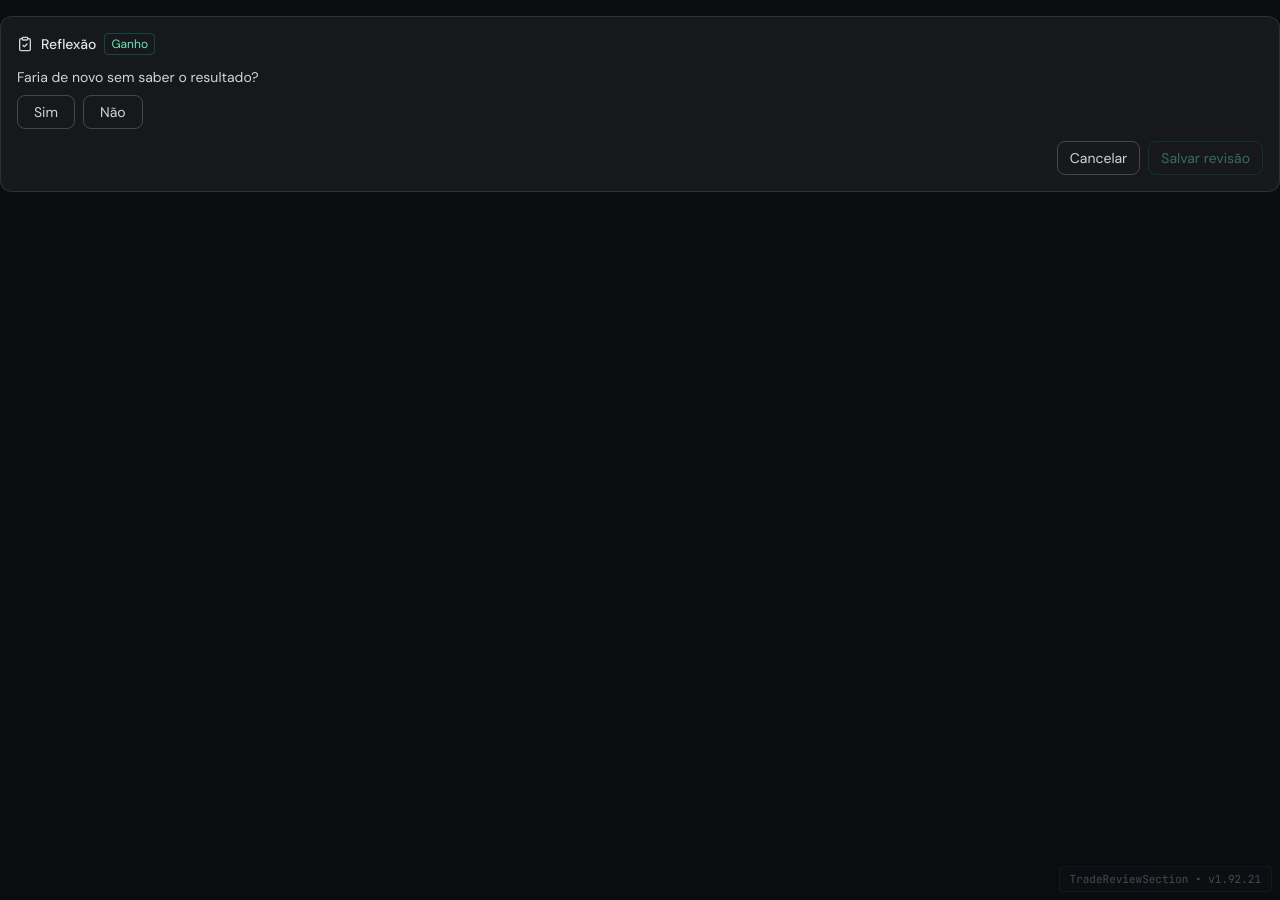
Test case: <TradeReviewSection /> — erro visível no salvar (#345) › nova tentativa limpa o erro anterior
Click the button "Sim" at [46, 112], box [17, 95, 75, 129]
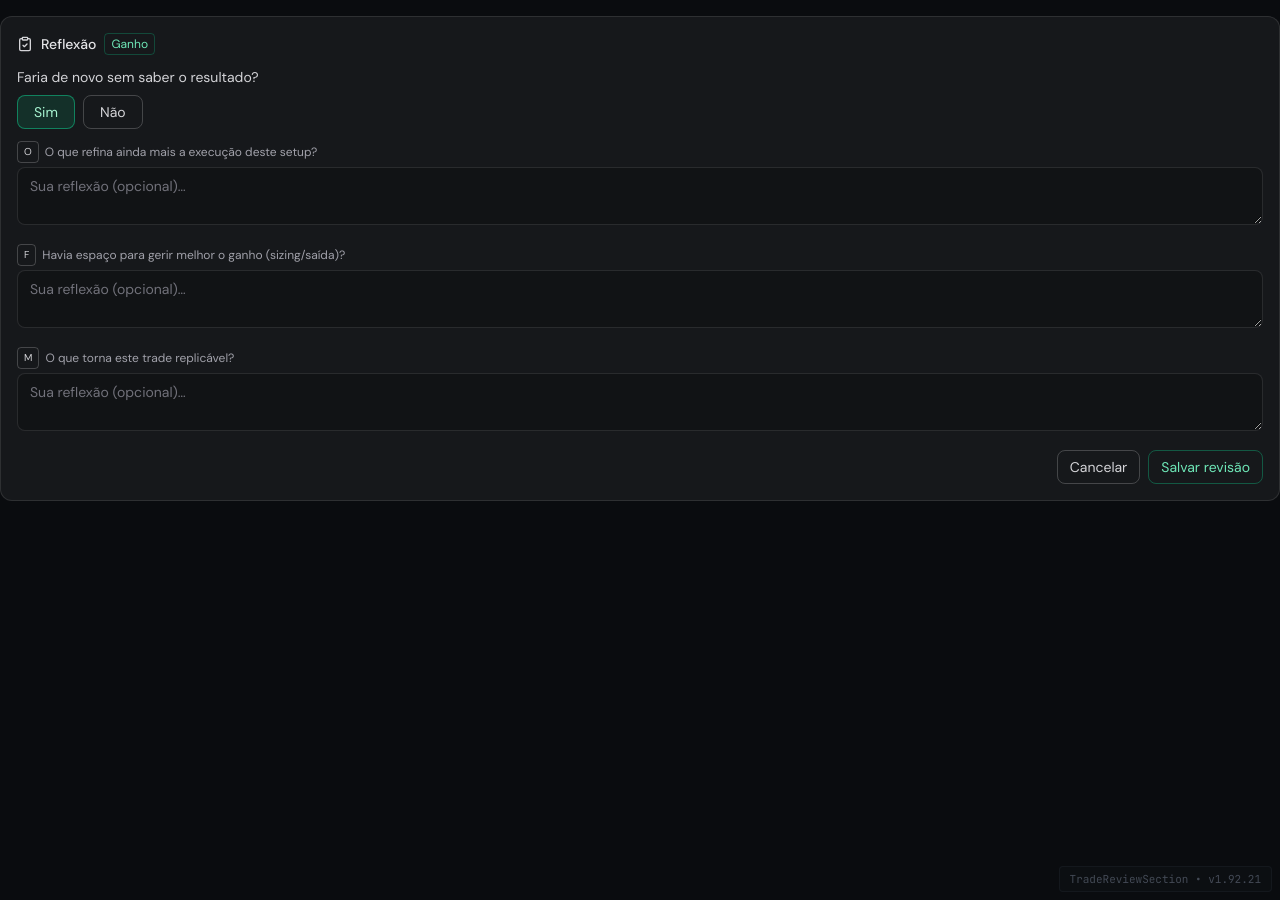
Click the button "Salvar revisão" at [1206, 467], box [1148, 450, 1263, 484]
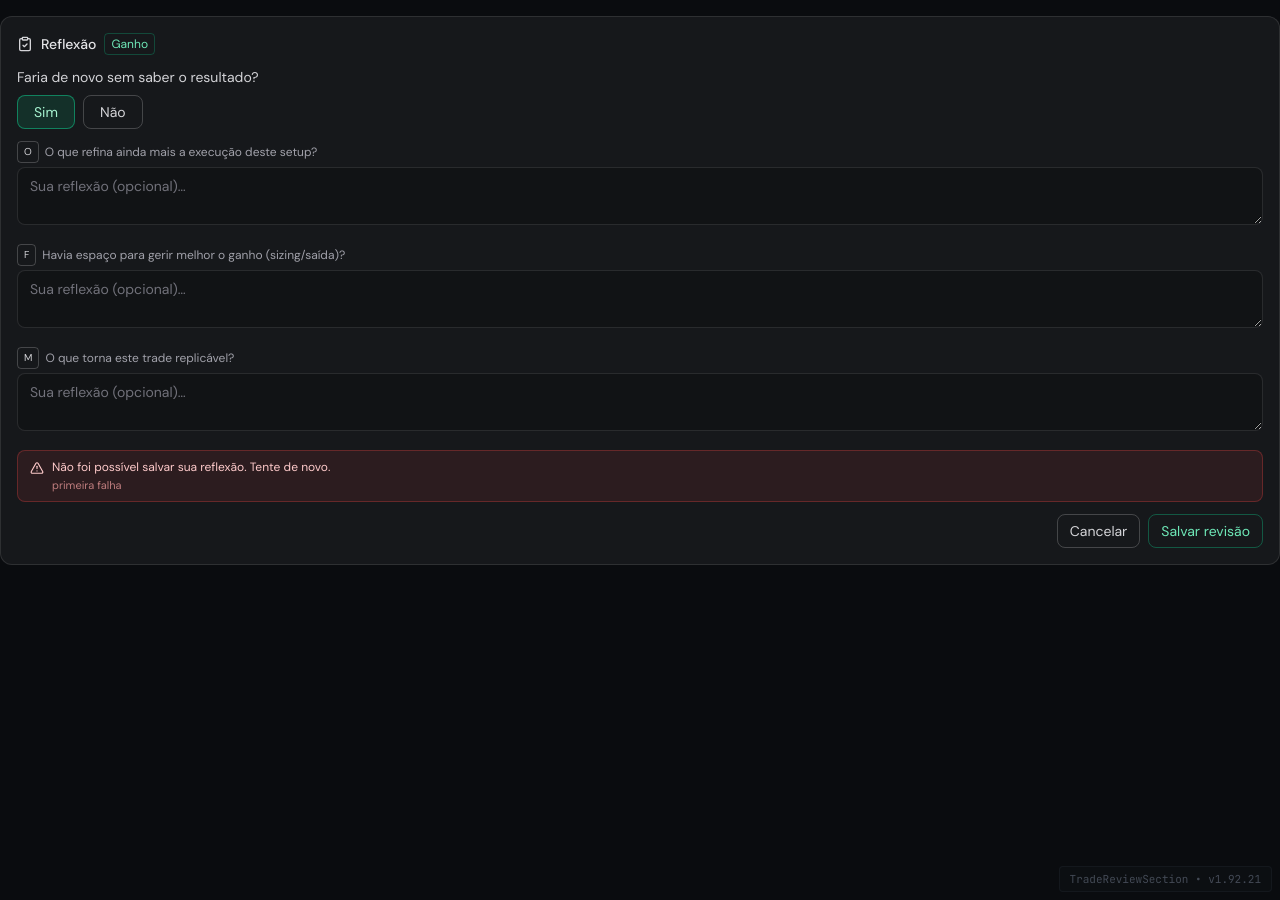
Expected: the text "primeira falha" is shown, [52, 478, 122, 492]
Click the button "Salvar revisão" at [1206, 531], box [1148, 514, 1263, 548]
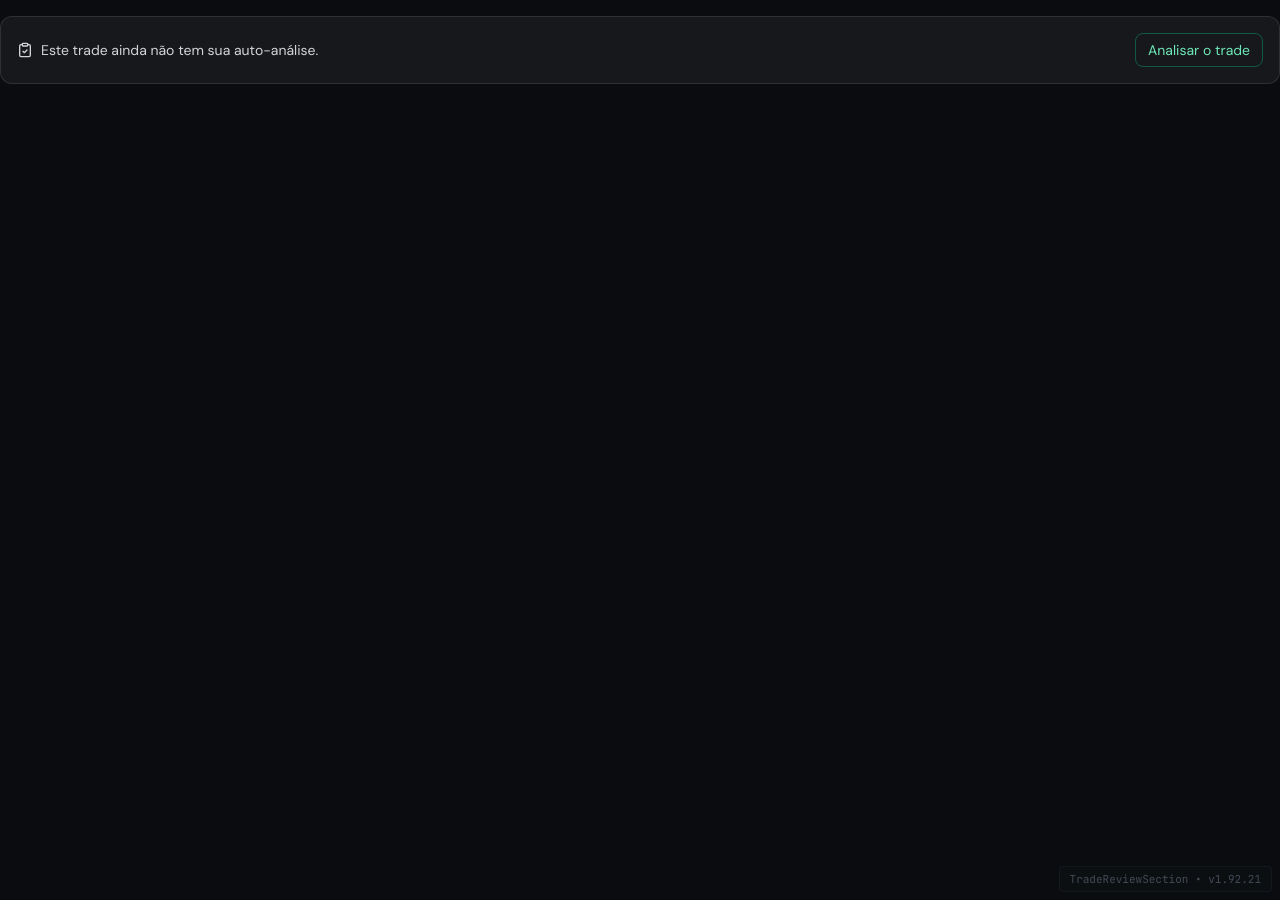
Expected: the text "primeira falha" is gone
